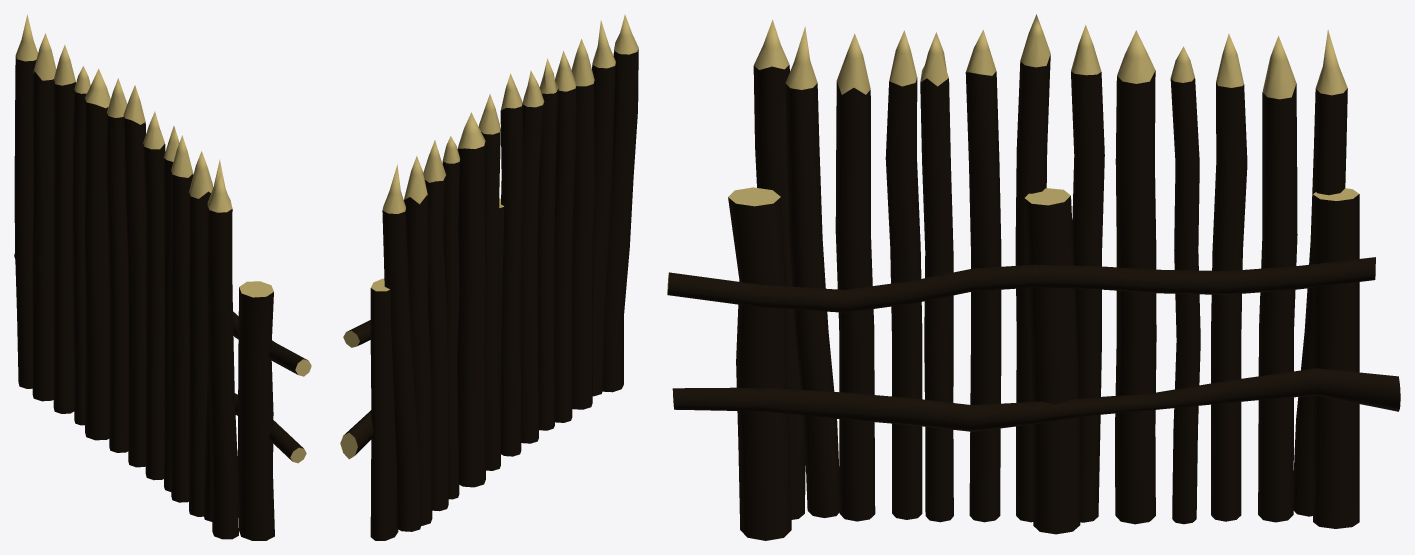
The model's file is fence4.fbx.
3 views of the same model, side by side, from view 1: azimuth 30°, elevation 25°; view 2: azimuth 150°, elevation 25°; view 3: azimuth 270°, elevation 25° (orthographic). The views are drawn at different scales.
Parts seen in each view (by area): view 1: fence4_LOD0; view 2: fence4_LOD0; view 3: fence4_LOD0.
Part boxes in pixels (x1,y1,x2,y2): fence4_LOD0: (14,14,311,540); fence4_LOD0: (340,14,638,540); fence4_LOD0: (667,14,1400,540).
Size of what is drawn, in the model's own units: 72.12 by 378 by 499.
